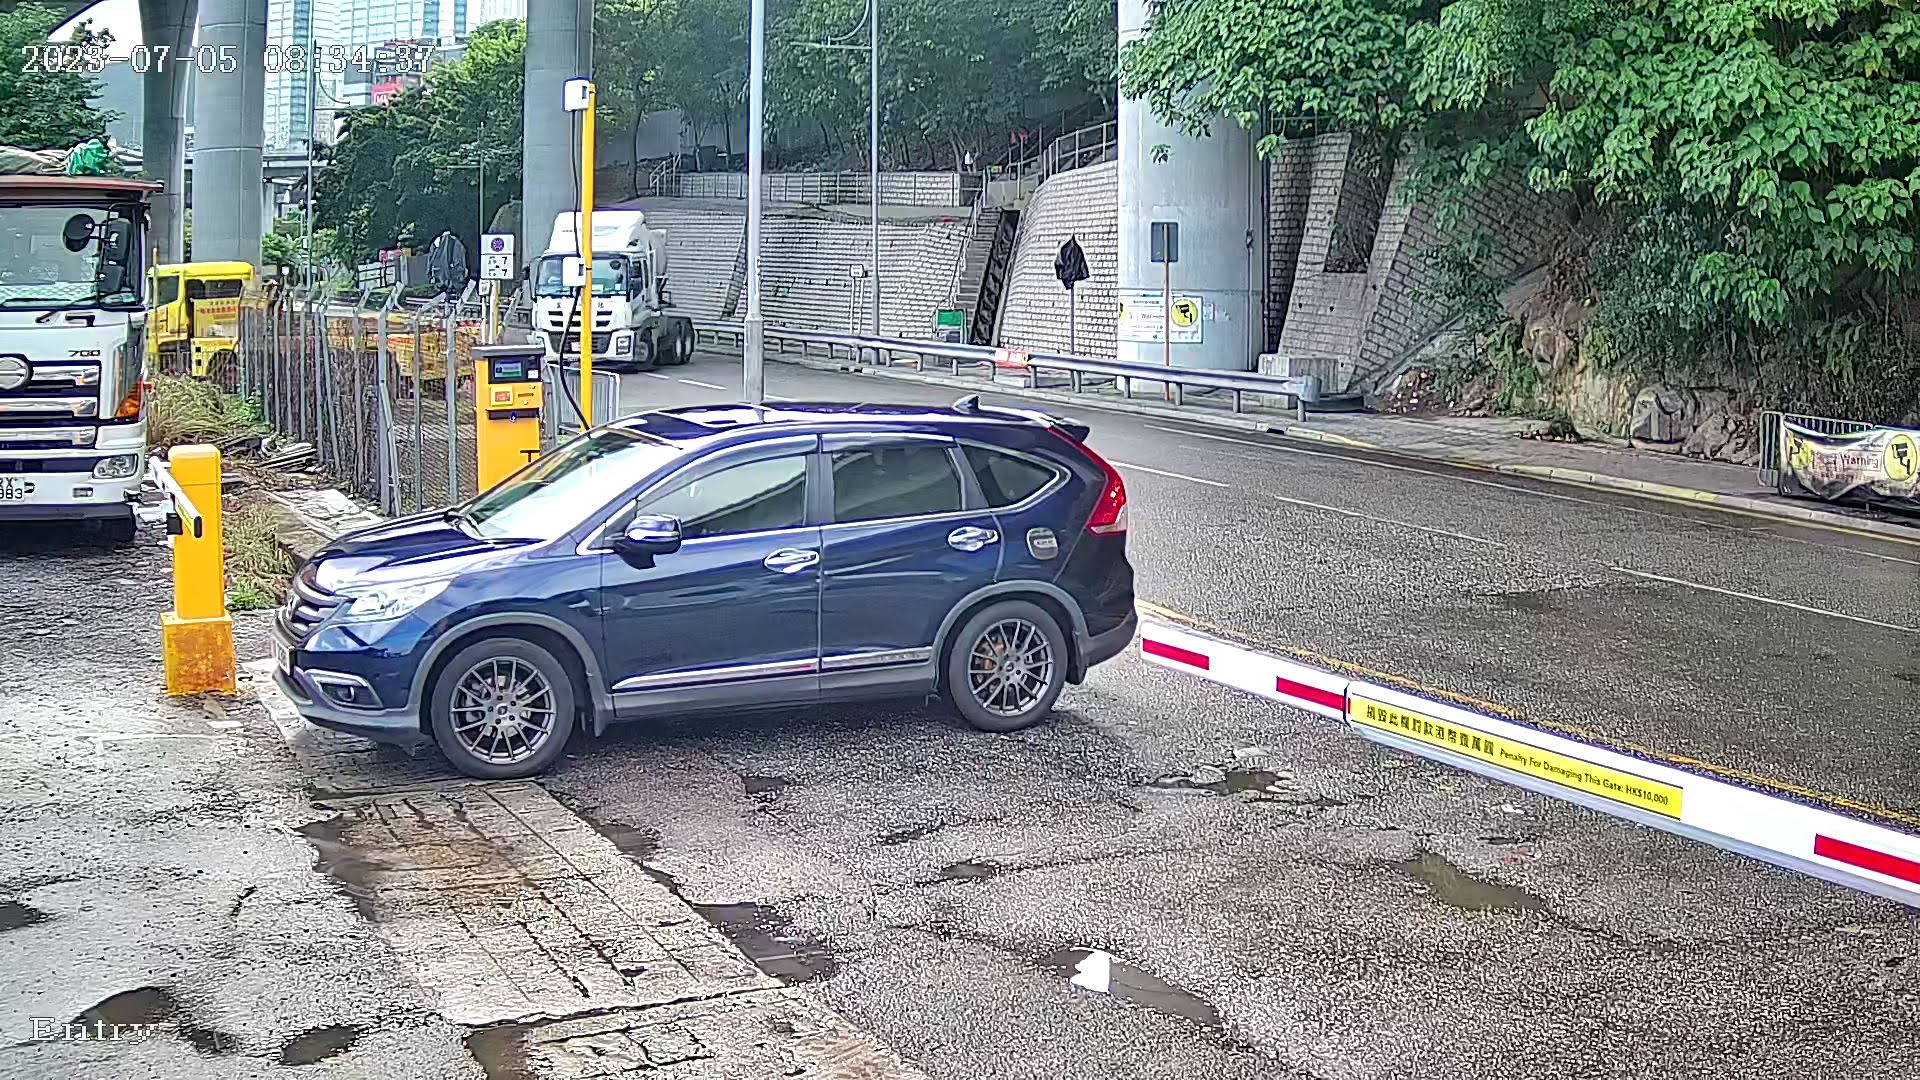privatecar: (233, 377, 1178, 804)
